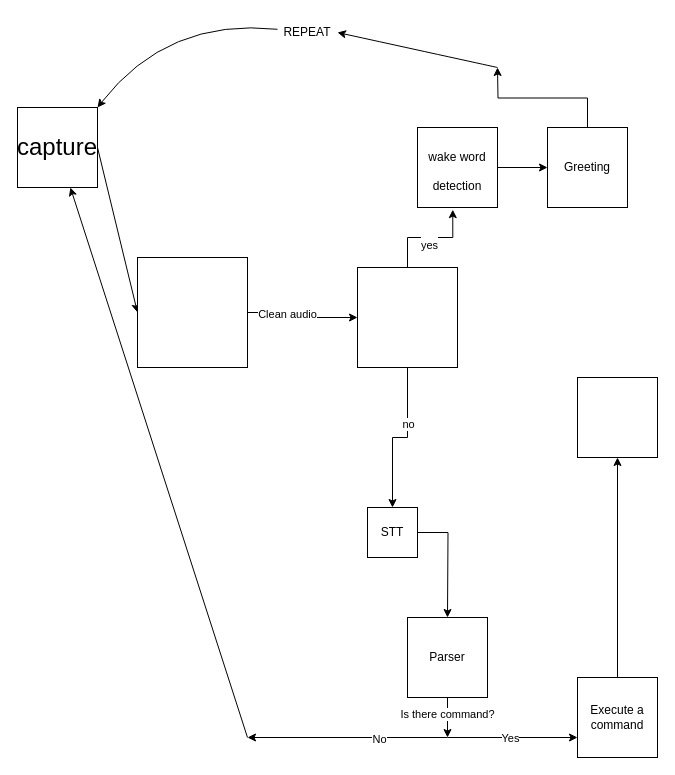
Some shapes in this 675 by 775 pixel diagram are drawn without their labels. The shapes that lost their labels are listed below. From the top down, each one's centre as x and y in pixels, then its label:
At [192,312]: "audio process".
At [407,317]: "is time passed".
At [617,417]: "Memory".
